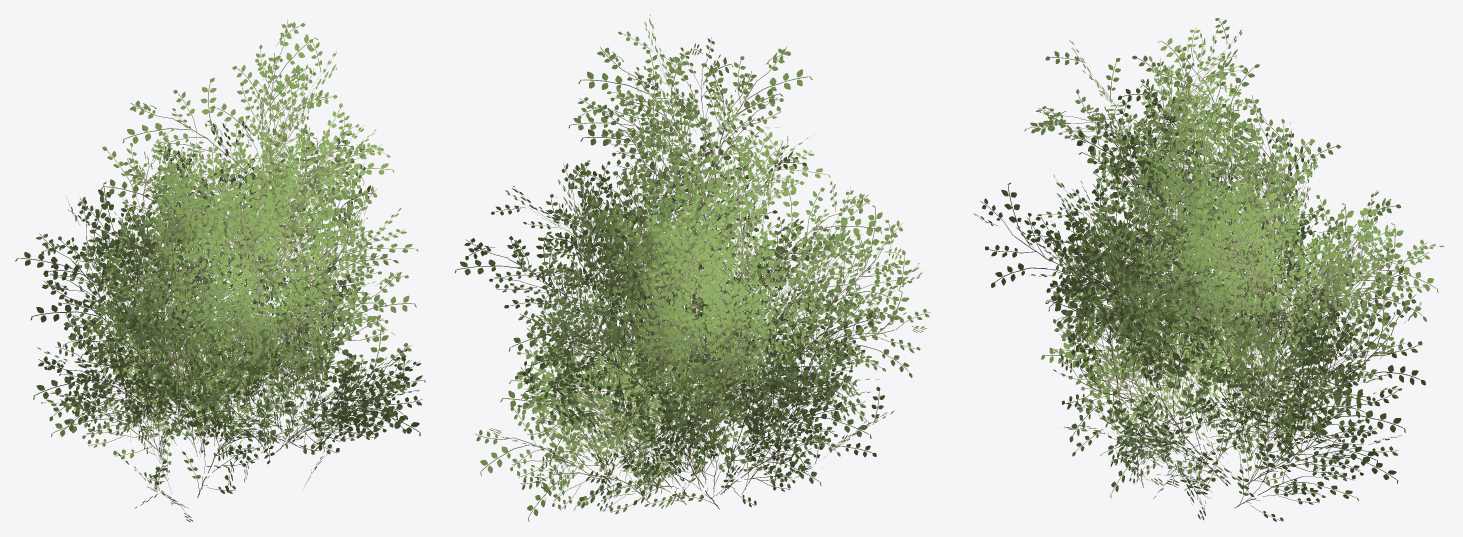
File: tree_Broadleaf_Bush_L1_LOD0.fbx
3 renders of one model, left to right at view 1: azimuth 30°, elevation 25°; view 2: azimuth 150°, elevation 25°; view 3: azimuth 270°, elevation 25°, orthographic. The views are drawn at different scales.
Parts seen in each view (by area): view 1: Broadleaf_Bush_L1_LOD0; view 2: Broadleaf_Bush_L1_LOD0; view 3: Broadleaf_Bush_L1_LOD0.
Part boxes in pixels (left/top/right/bottom): Broadleaf_Bush_L1_LOD0: left=15, top=20, right=425, bottom=521; Broadleaf_Bush_L1_LOD0: left=454, top=14, right=930, bottom=521; Broadleaf_Bush_L1_LOD0: left=973, top=18, right=1443, bottom=521.
Size of the model in its own units: 588 by 631 by 578.
